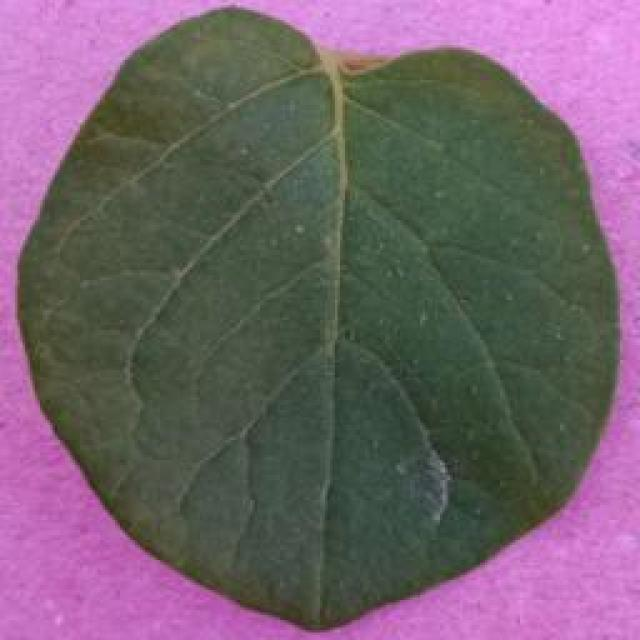Potato_Healthy: (19, 9, 612, 629)
